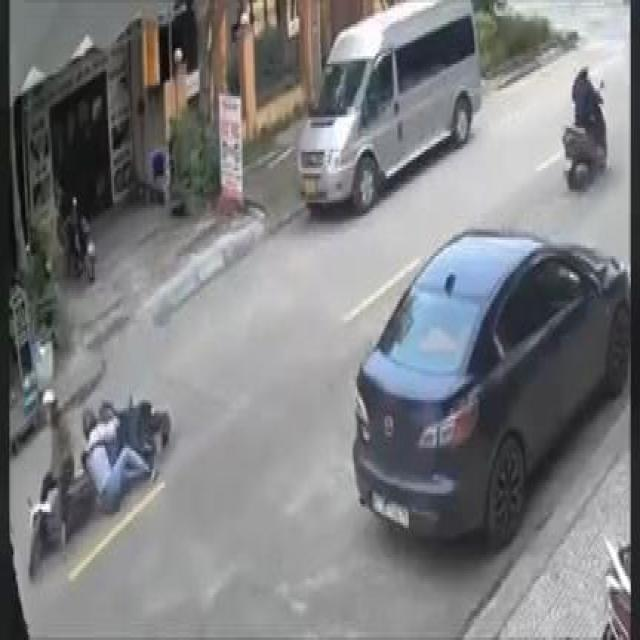accident: (21, 376, 175, 597)
